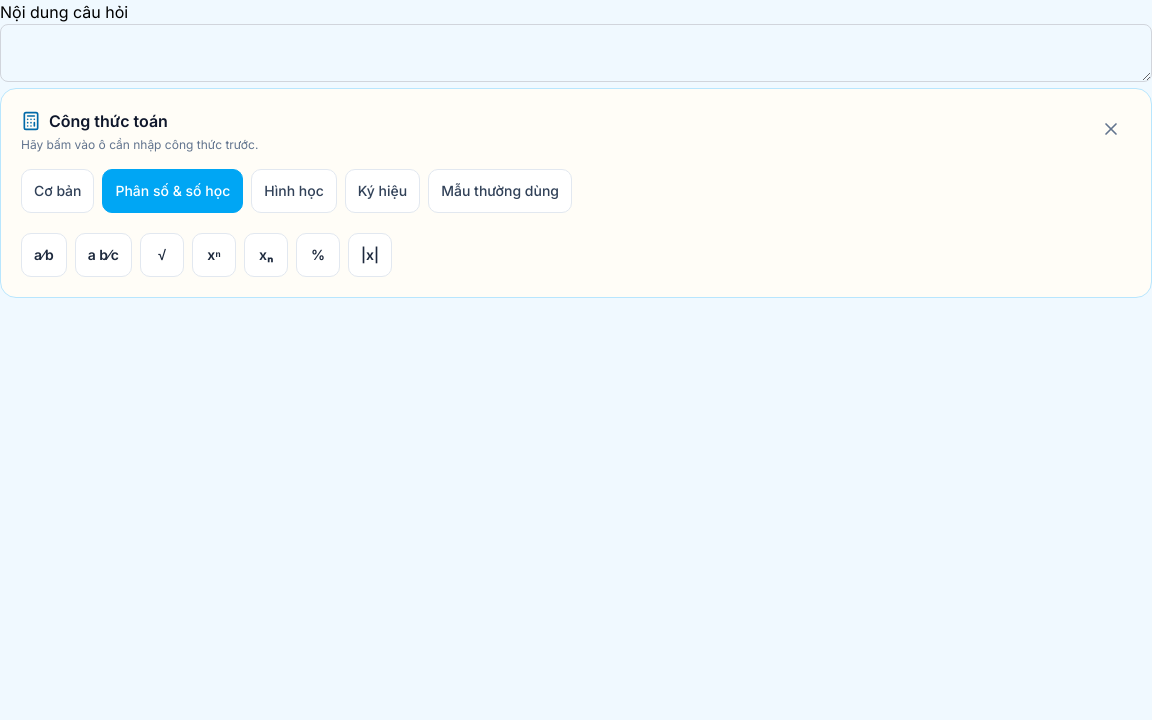
Test case: MathComposerPanel › keeps raw LaTeX hidden until the advanced toggle is enabled
Focus the text box labelled "Nội dung câu hỏi" at [576, 53], box [0,24,1151,82]
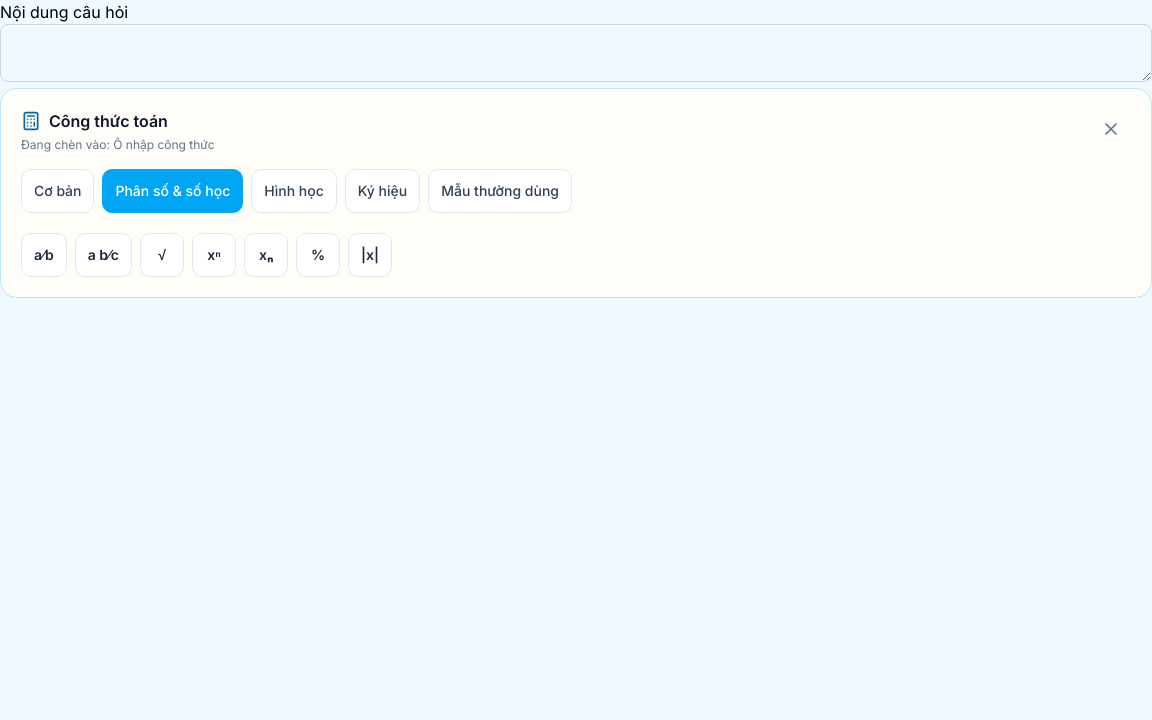
Click the button named "Căn bậc hai" at [162, 255], box [140,233,184,277]
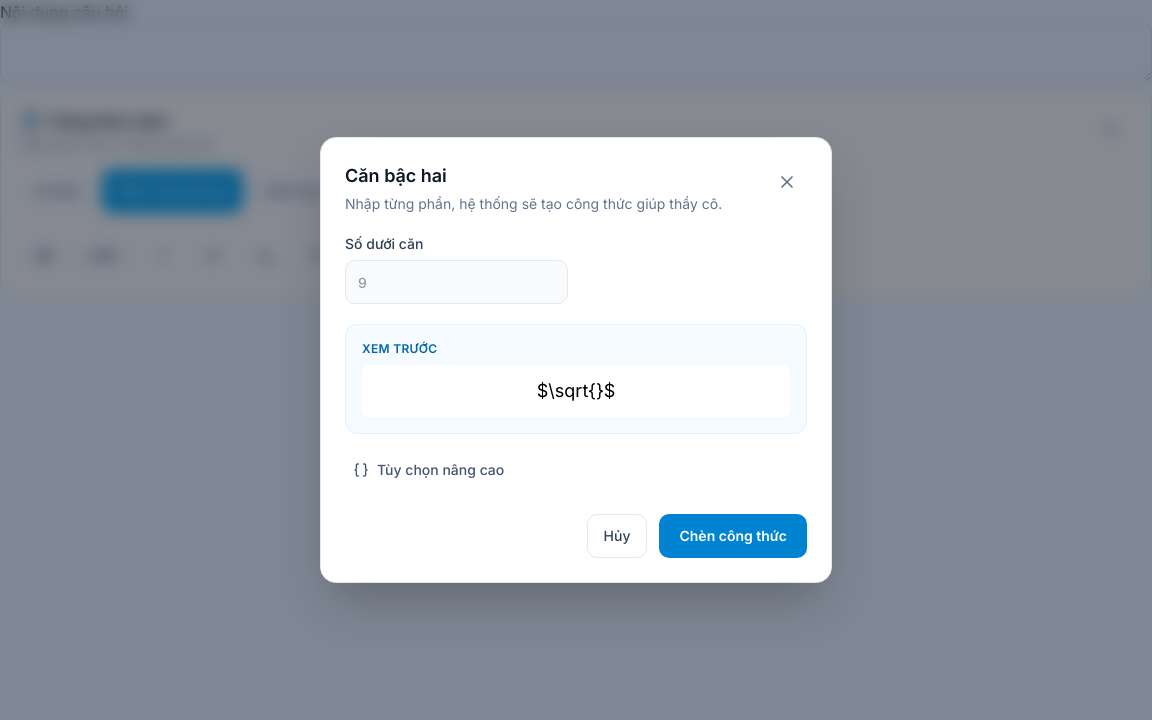
Expected: the field labelled "Mã LaTeX" is not shown
Click the button with aria-label "Hiện mã LaTeX nâng cao" at [429, 470], box [345,450,512,490]
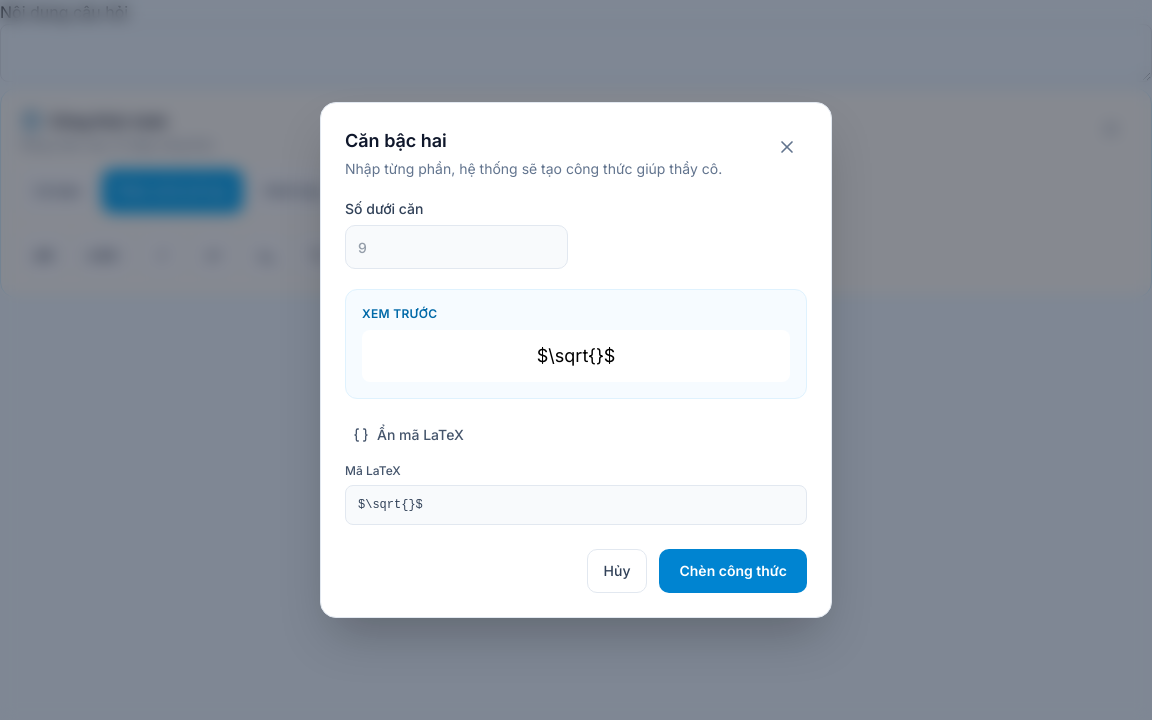
Expected: the field labelled "Mã LaTeX" holds "$\\sqrt{}$", [345,485,807,525]
